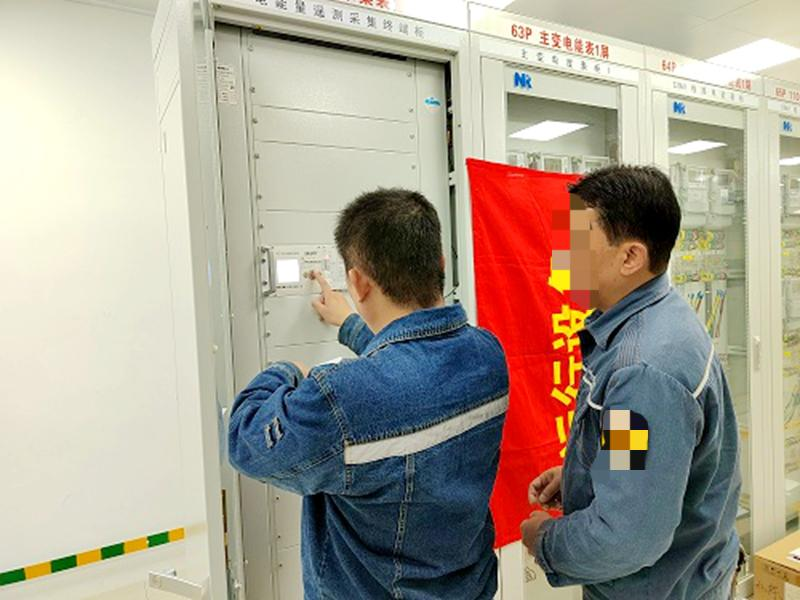noear: (609, 224, 661, 284), (344, 263, 378, 303)
unhalt: (556, 169, 687, 306), (335, 189, 454, 319)
